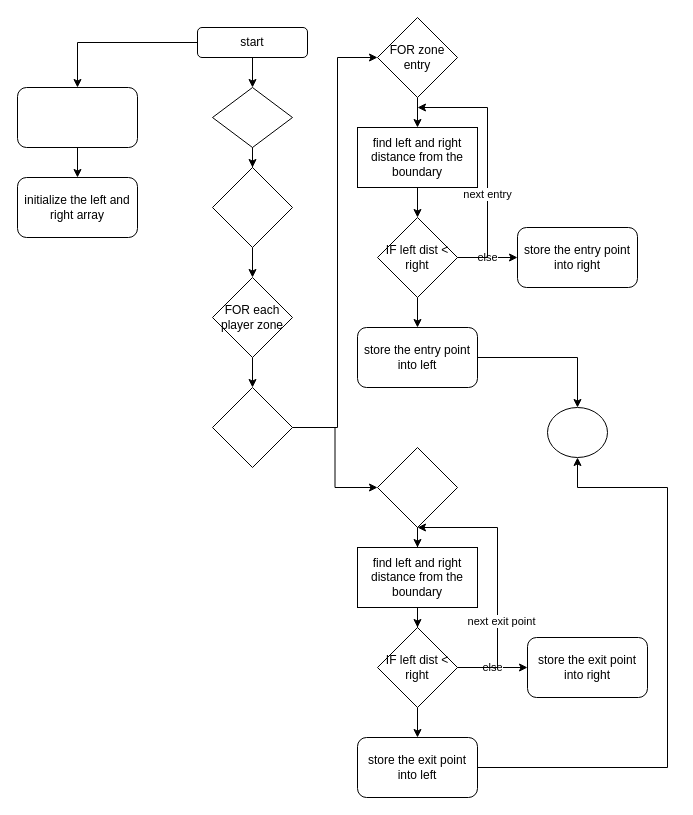
The diagram is 693 pixels wide and 815 high, and some of its shapes have lost their labels. Each missing label, with the centre of its shape:
"construct the game entry exit object" goes at [77,117].
"end" goes at [577,432].
"FOR game arena players" goes at [252,117].
"FOR zone exit" goes at [417,487].
"IF data is player 1 or 2" goes at [252,207].
"IF zone 1 or 2" goes at [252,427].
